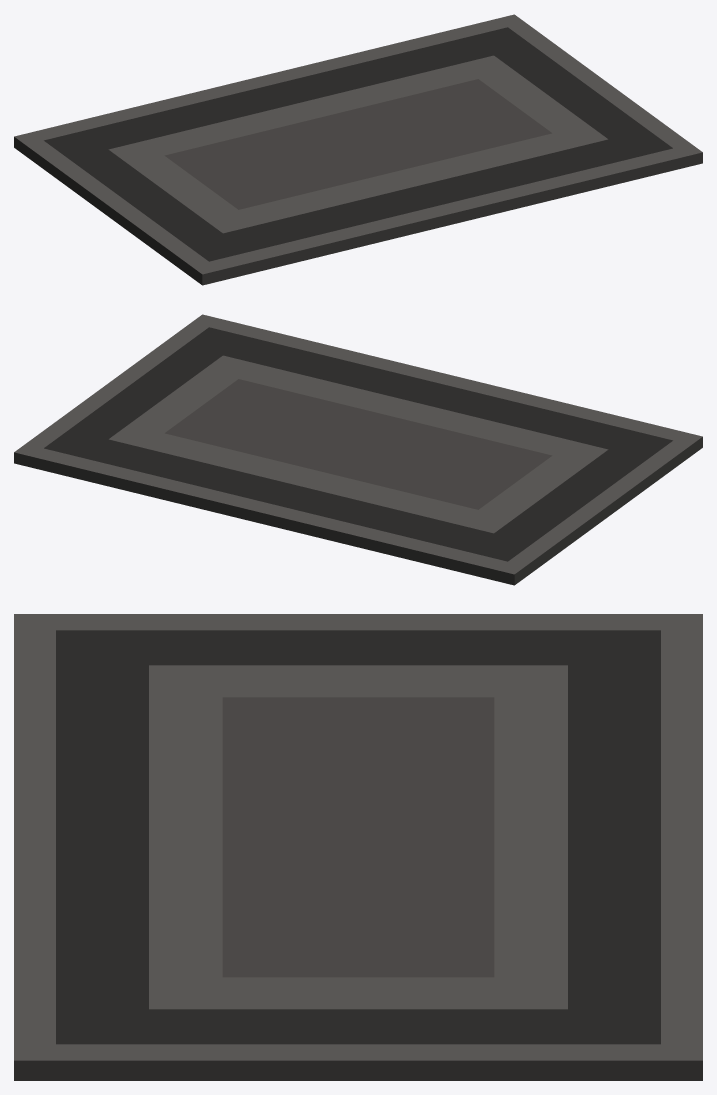
File: SO_Rug_01.fbx
The picture shows the model from 3 angles, top to bottom: view 1: azimuth 30°, elevation 25°; view 2: azimuth 150°, elevation 25°; view 3: azimuth 270°, elevation 25°; orthographic projection. The views are drawn at different scales.
Parts seen in each view (by area): view 1: SO_Rug_01; view 2: SO_Rug_01; view 3: SO_Rug_01.
Boxes of the visible parts, x1,y1,x2,y2 form: SO_Rug_01: (14,14,702,285); SO_Rug_01: (14,314,702,585); SO_Rug_01: (14,614,702,1080).
Size of the model in its own units: 4.79 by 0.1012 by 3.13.
